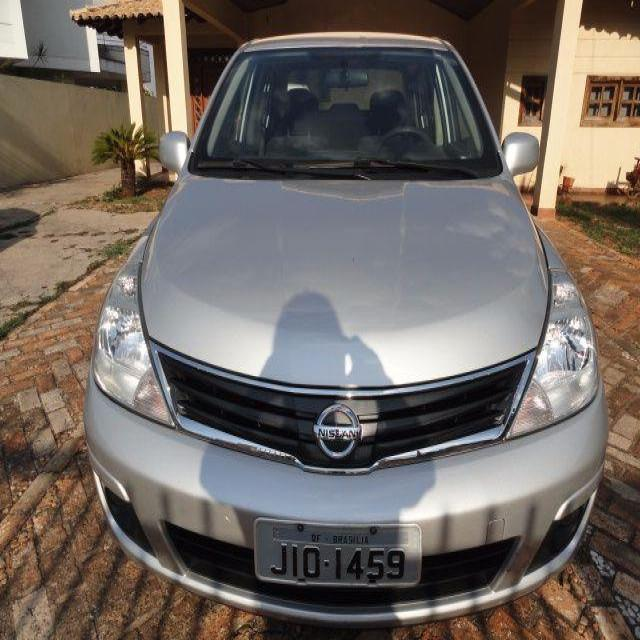Placa: (252, 513, 425, 595)
